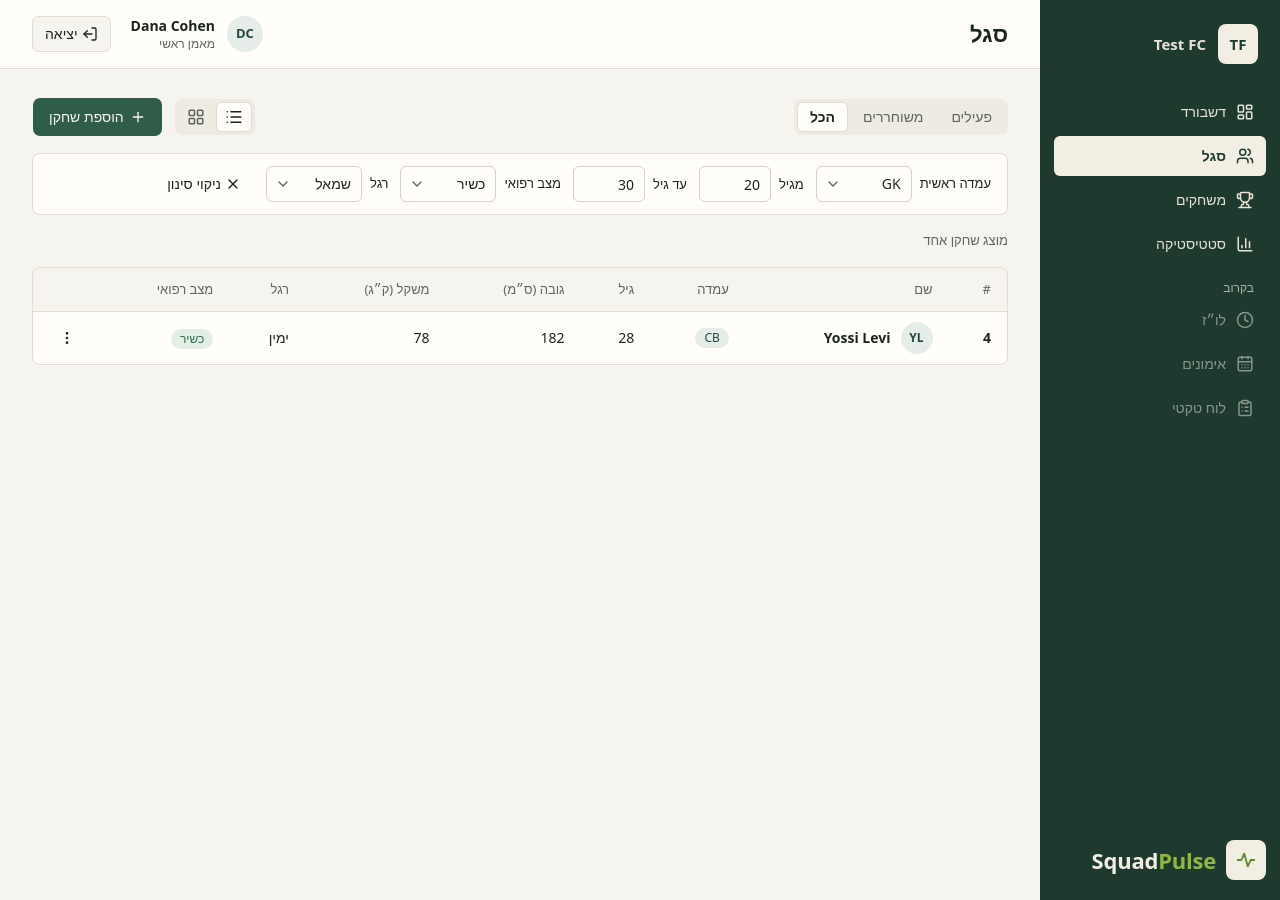
Test case: the filters in the URL › are cleared, all but the status, by the clear button
Expected: the heading "סגל" is shown, [970,20,1008,48]
Click the button "ניקוי סינון" at (204, 184), box [154,166,254,202]
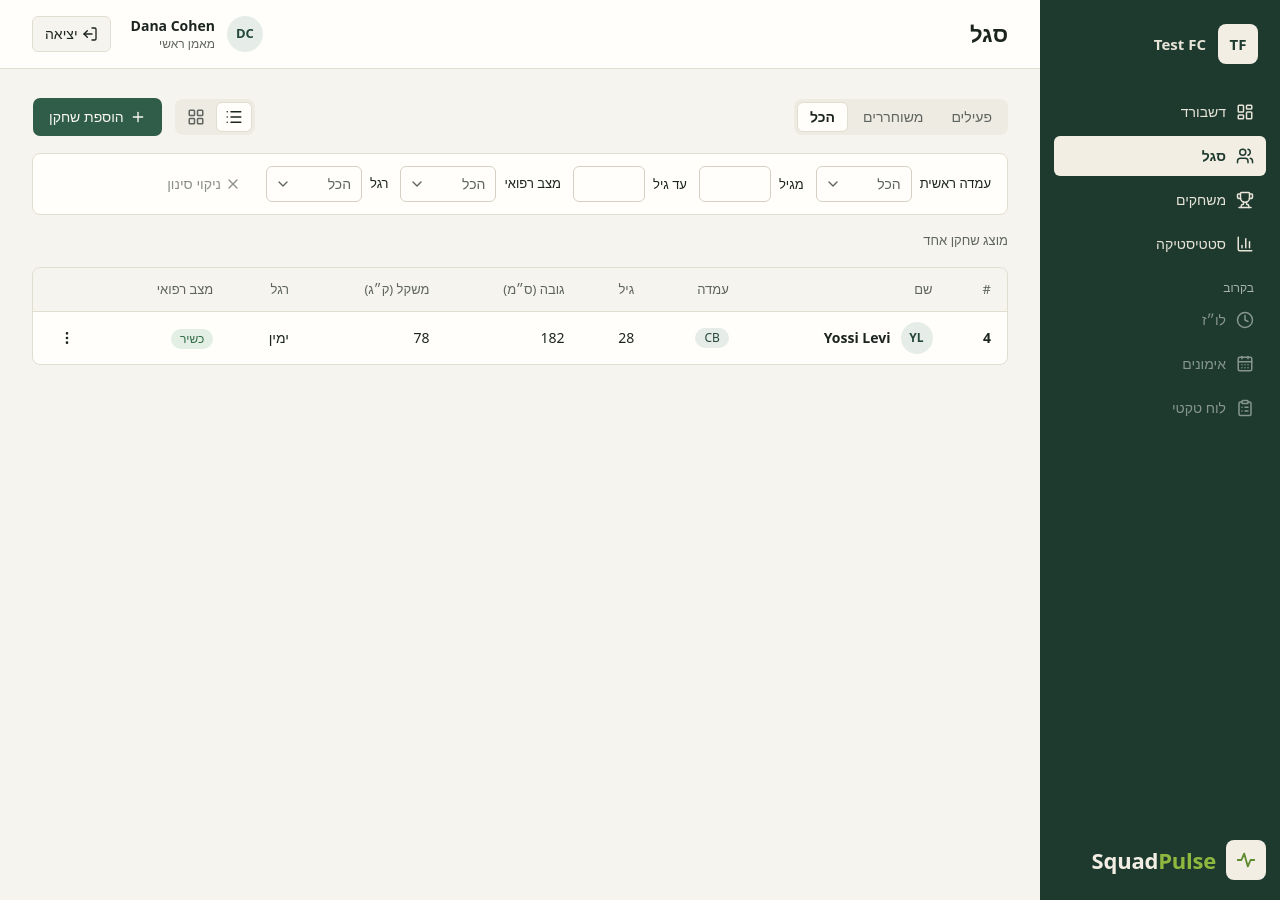
Expected: the field labelled "מגיל" is empty, [699,166,771,202]
Expected: the field labelled "עד גיל" is empty, [573,166,645,202]
Expected: the dropdown named "עמדה ראשית" shows "הכל", [816,166,912,202]
